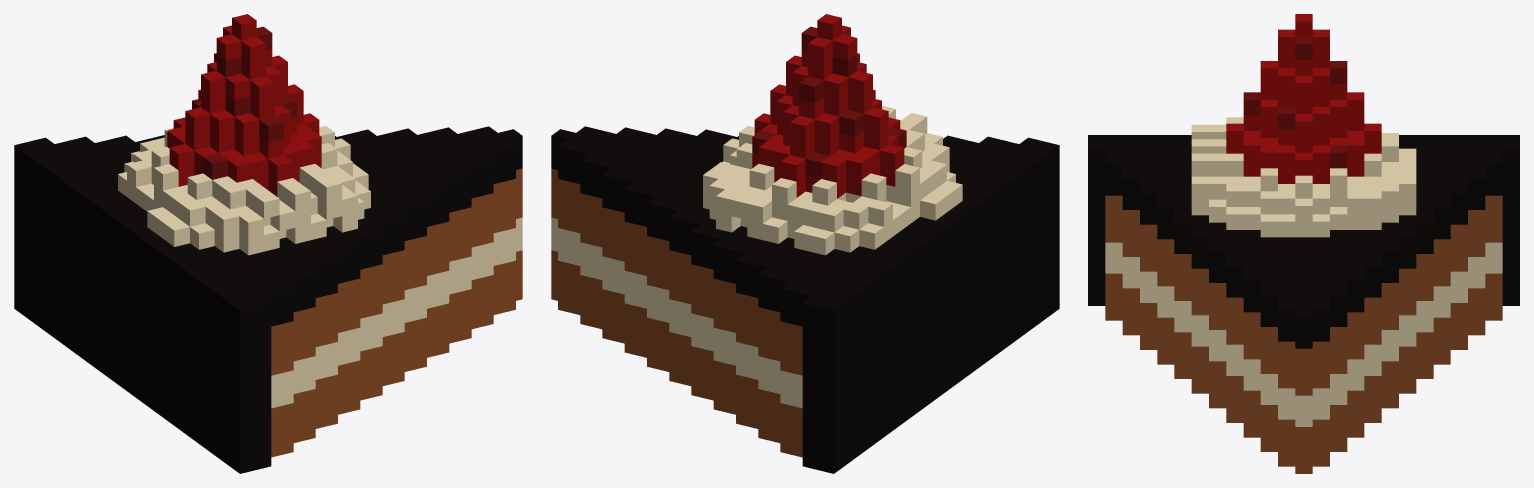
File: CharCake.obj
3 renders of one model, left to right at view 1: azimuth 30°, elevation 25°; view 2: azimuth 150°, elevation 25°; view 3: azimuth 270°, elevation 25°, orthographic. The views are drawn at different scales.
Parts seen in each view (by area): view 1: obj1; view 2: obj1; view 3: obj1.
Part boxes in pixels (x1,y1,x2,y2): obj1: [14, 14, 522, 473]; obj1: [551, 14, 1059, 473]; obj1: [1088, 14, 1519, 473].
Bounding box in the file's own units: 0.0375 × 0.0315 × 0.0375.
